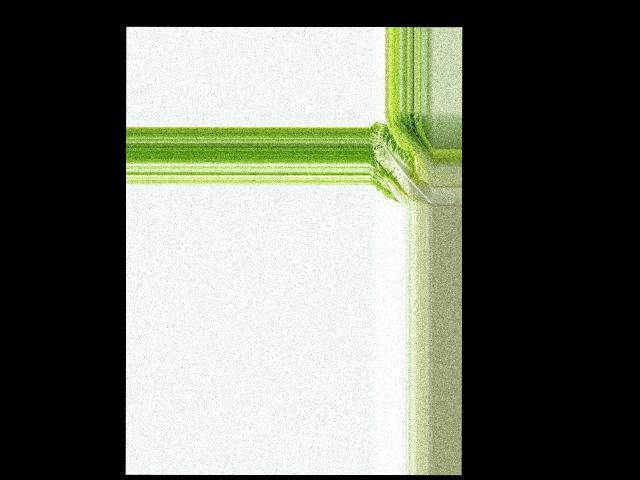lettuce: (370, 110, 433, 206)
